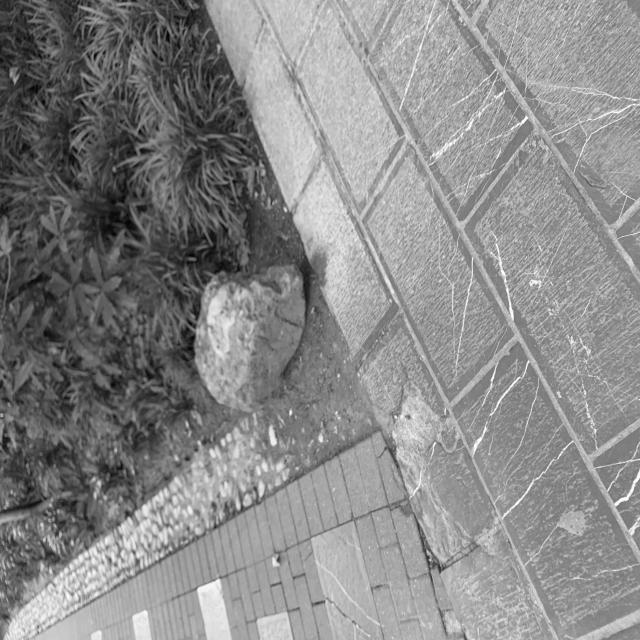Stone: (195, 265, 304, 411)
